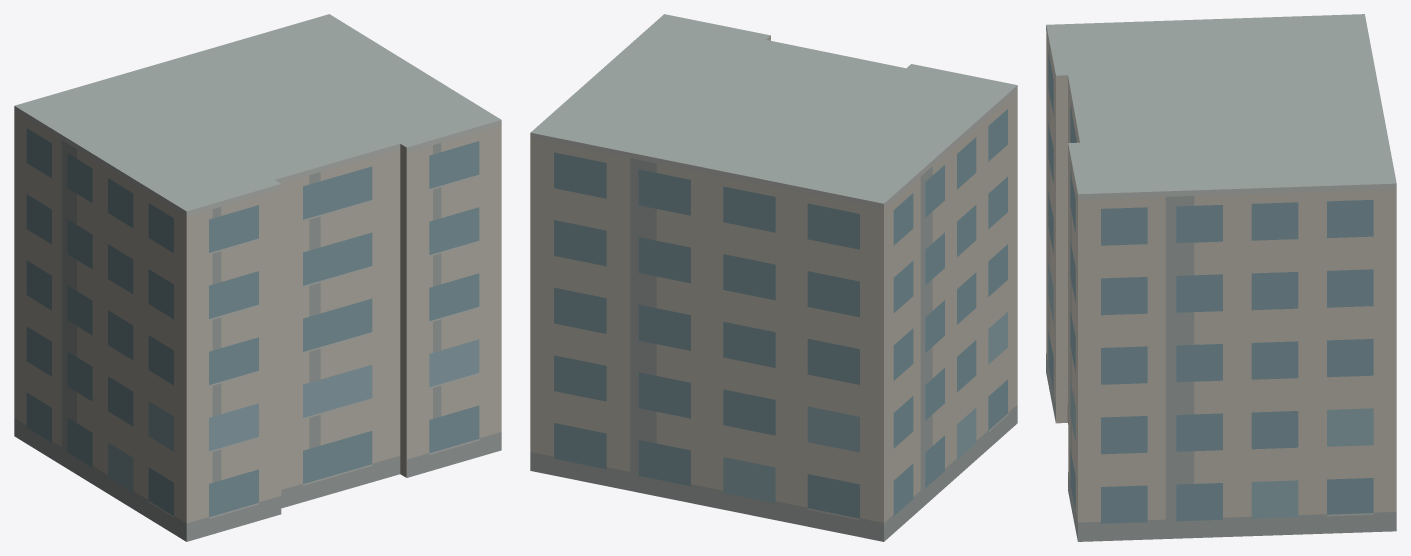
Rendered from survey-upis-32956876.glb.
The picture shows the model from 3 angles, left to right: view 1: azimuth 30°, elevation 25°; view 2: azimuth 150°, elevation 25°; view 3: azimuth 270°, elevation 25°; orthographic projection. The views are drawn at different scales.
Parts seen in each view (by area): view 1: survey-upis-32956876.tmp; view 2: survey-upis-32956876.tmp; view 3: survey-upis-32956876.tmp.
Part boxes in pixels (bbox=[...]): survey-upis-32956876.tmp: bbox=[14, 14, 501, 541]; survey-upis-32956876.tmp: bbox=[530, 14, 1017, 541]; survey-upis-32956876.tmp: bbox=[1046, 14, 1396, 541].
Size of the model in its own units: 16.96 by 15.25 by 13.95.
